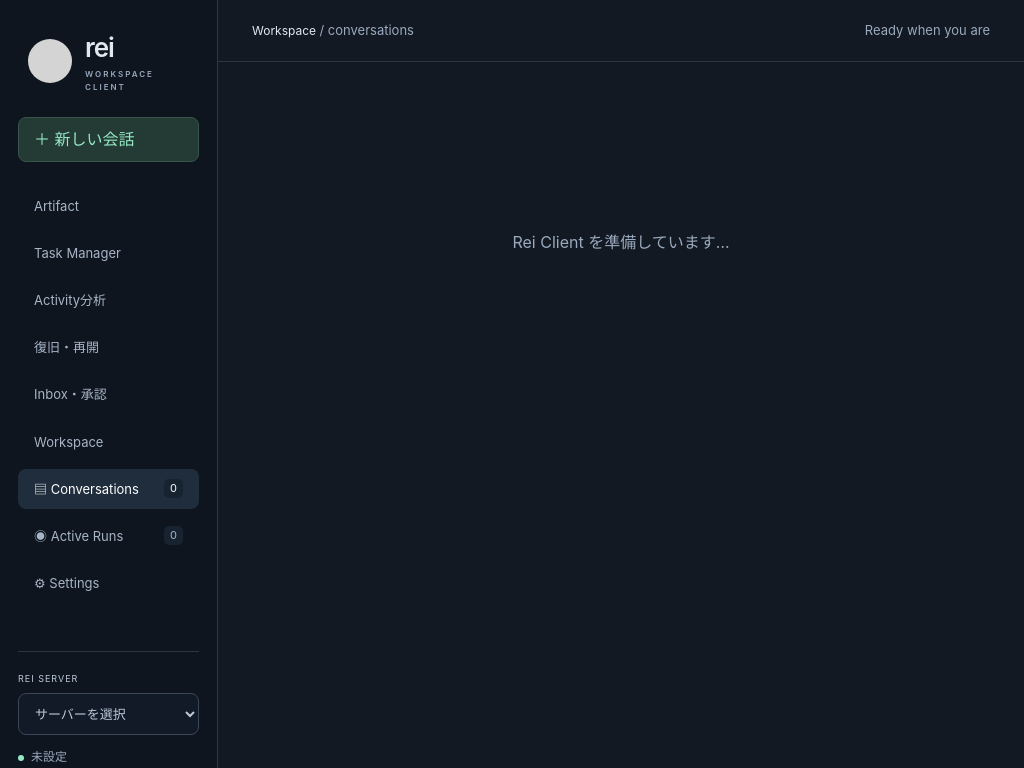
creates a conversation using project id and navigates to chat
Click the button "＋ 新しい会話" at point(108, 140), box [18,117,199,162]
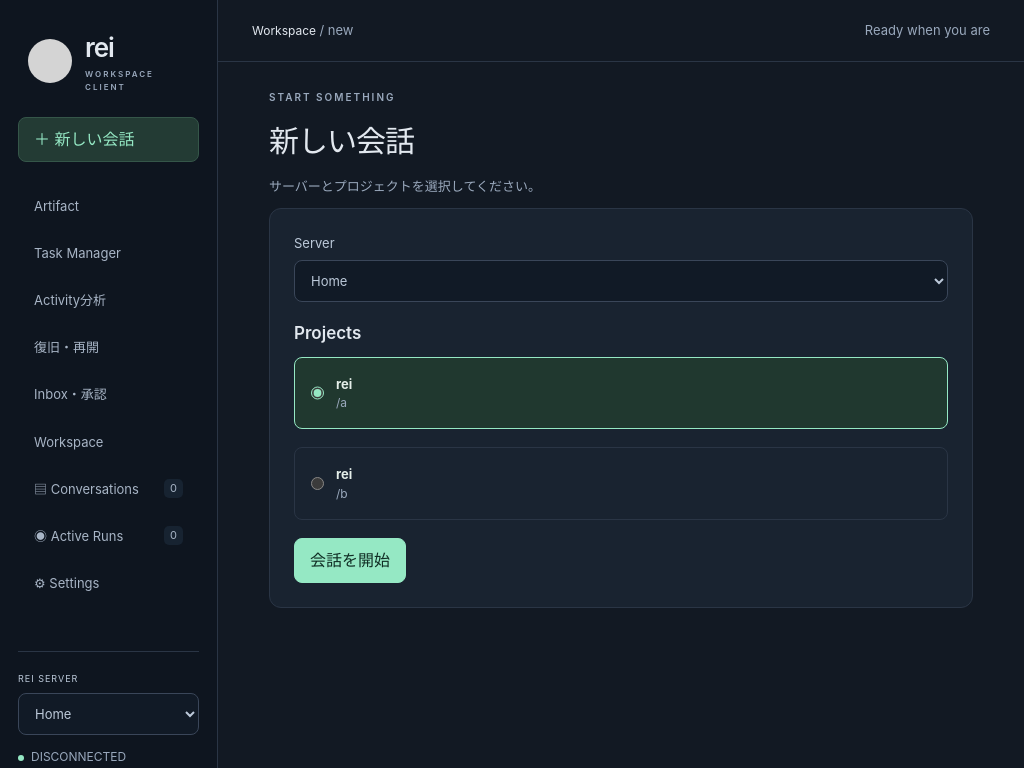
Click the radio button labelled "rei /b" at point(318, 484), box [311,464,324,503]
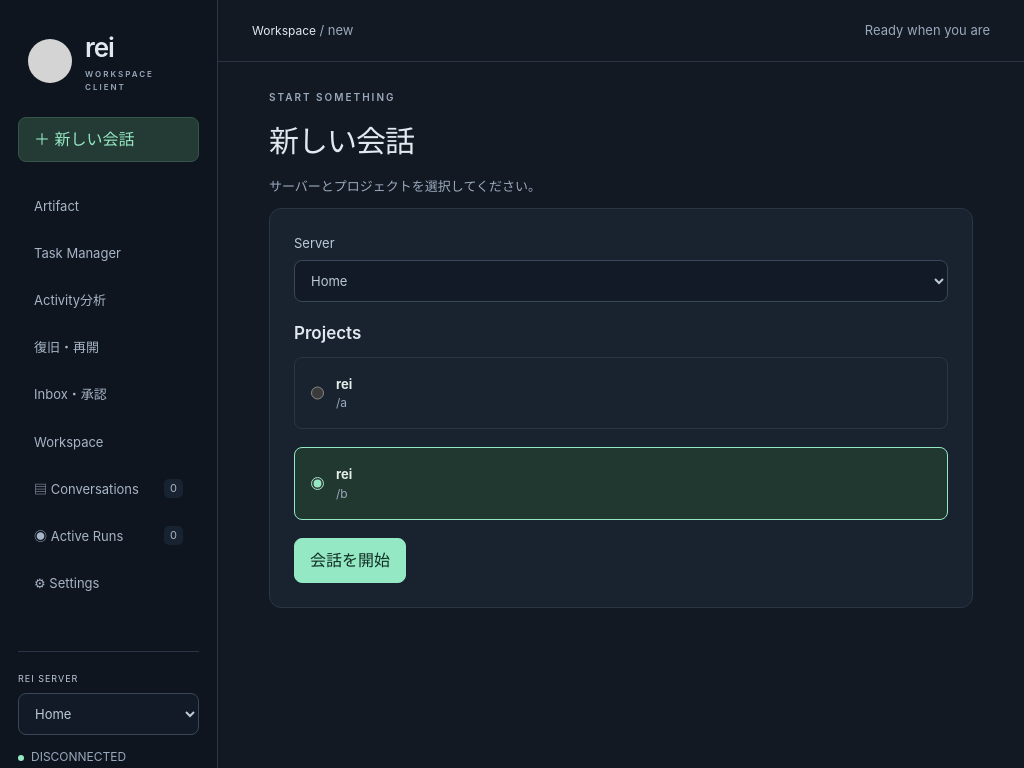
Click the button "会話を開始" at point(350, 560), box [294,538,406,583]
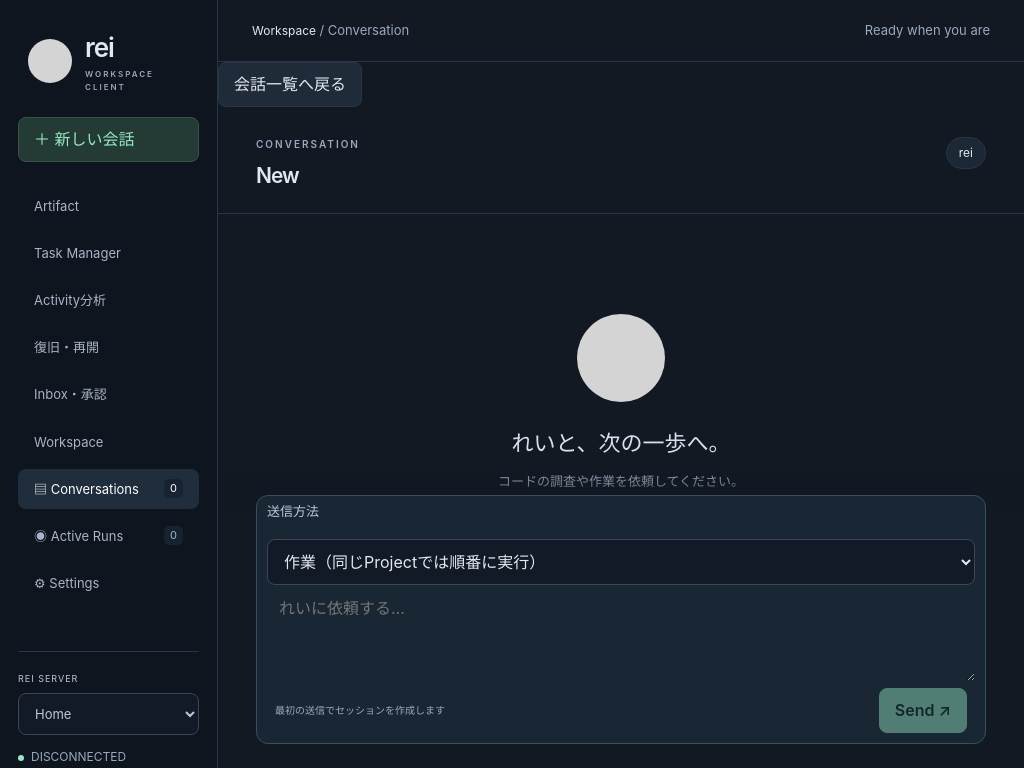
Expected: the text box with placeholder "れいに依頼する…" is shown, [267,585,975,681]
